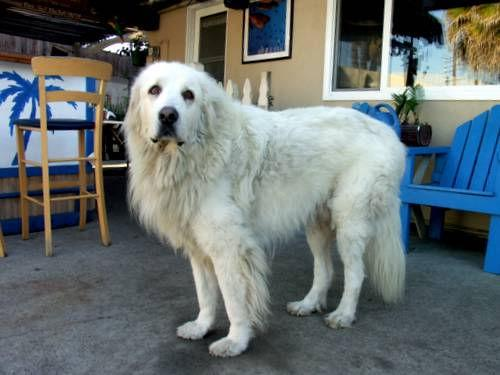dog-great_pyrenees: (124, 60, 231, 146)
